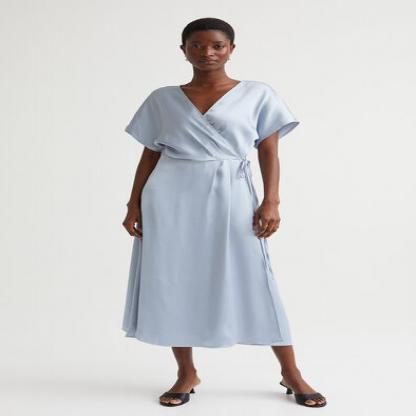dress: (108, 72, 328, 358)
